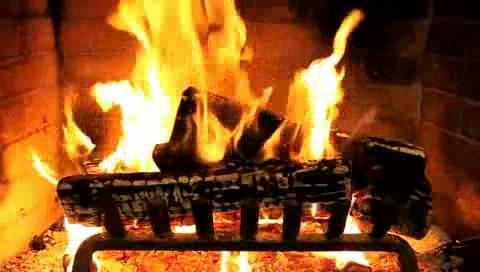fire: (106, 3, 349, 164)
